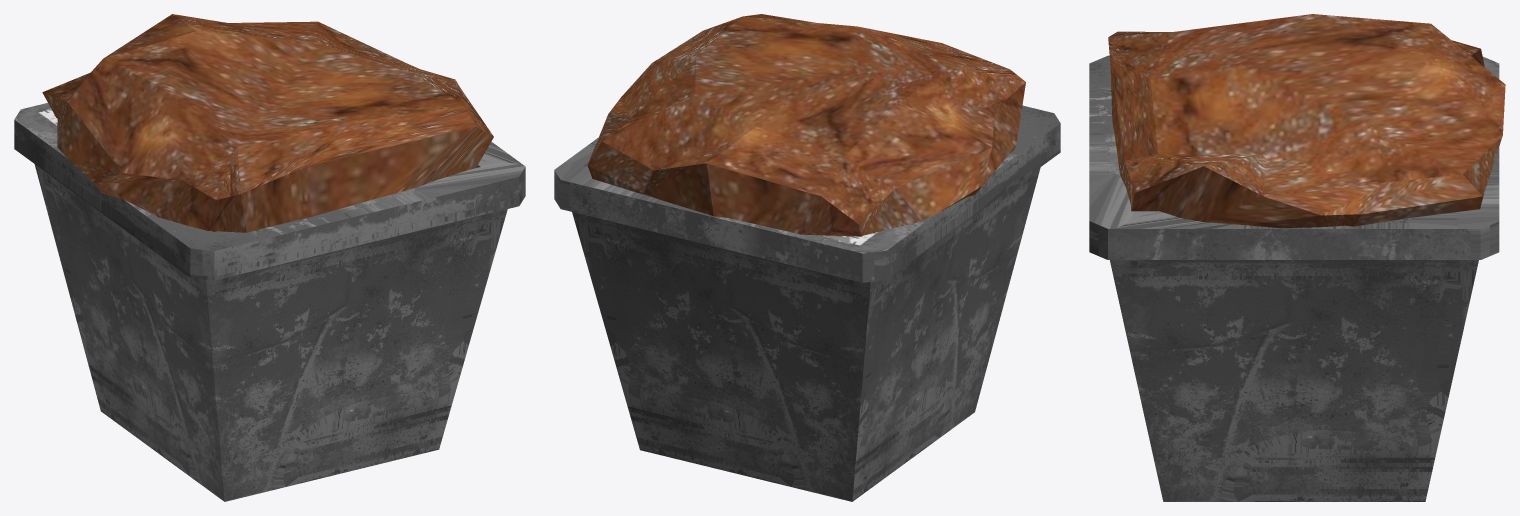
Rendered from ShitCan.fbx.
The picture shows the model from 3 angles, left to right: view 1: azimuth 30°, elevation 25°; view 2: azimuth 150°, elevation 25°; view 3: azimuth 270°, elevation 25°; orthographic projection. The views are drawn at different scales.
Visible parts, largest first — view 1: ShitCan, ShitLayer5; view 2: ShitCan, ShitLayer5; view 3: ShitCan, ShitLayer5.
Boxes of the visible parts, <box> form: ShitCan: <box>14,103,525,501</box>; ShitLayer5: <box>42,14,493,232</box>; ShitCan: <box>554,105,1060,501</box>; ShitLayer5: <box>587,14,1025,236</box>; ShitCan: <box>1089,55,1499,501</box>; ShitLayer5: <box>1108,14,1505,228</box>.
Bounding box in the file's own units: 257 × 252 × 249.
Materials: 2 (2 with a texture image).
